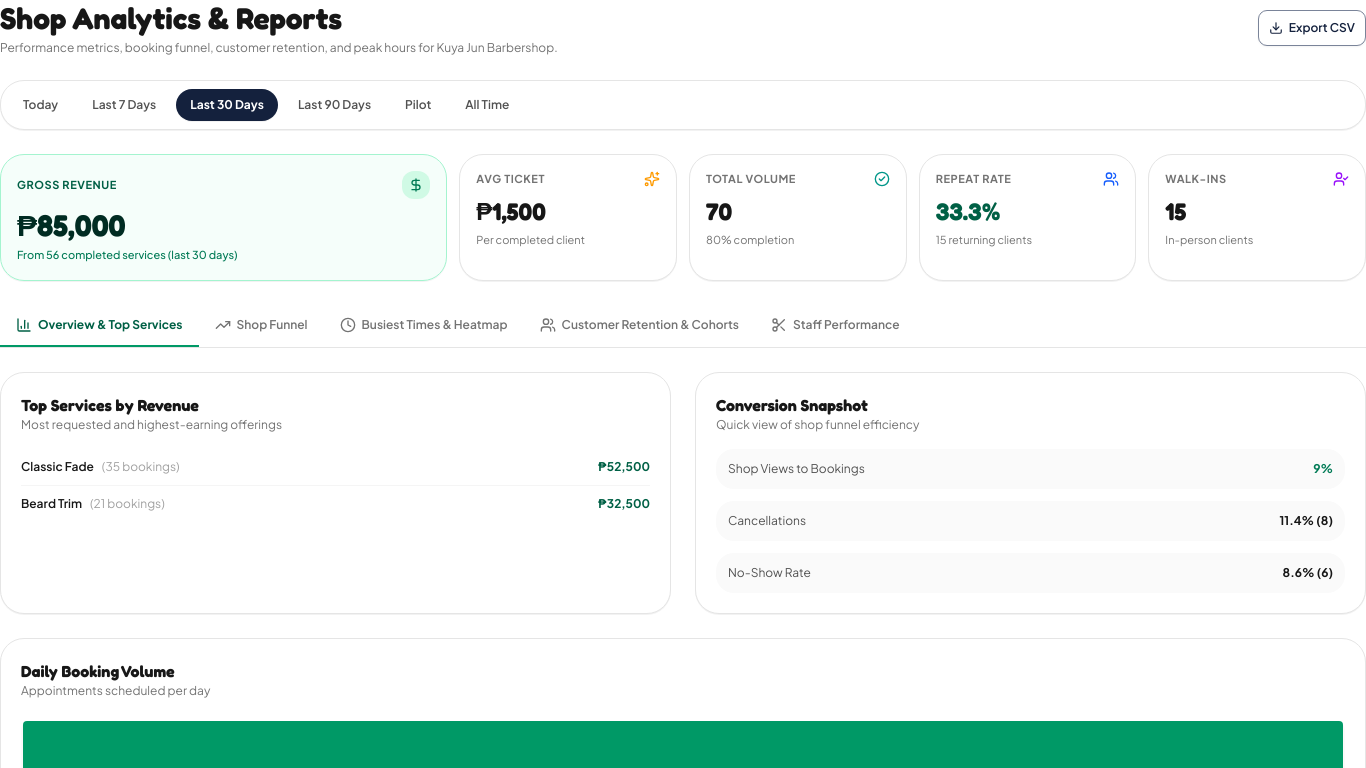
Test: Analytics UI Components › ShopAnalyticsView › switches tabs to schedule and displays busiest times
Click the button "Busiest Times & Heatmap" at [424, 326], box [324,304,524,346]
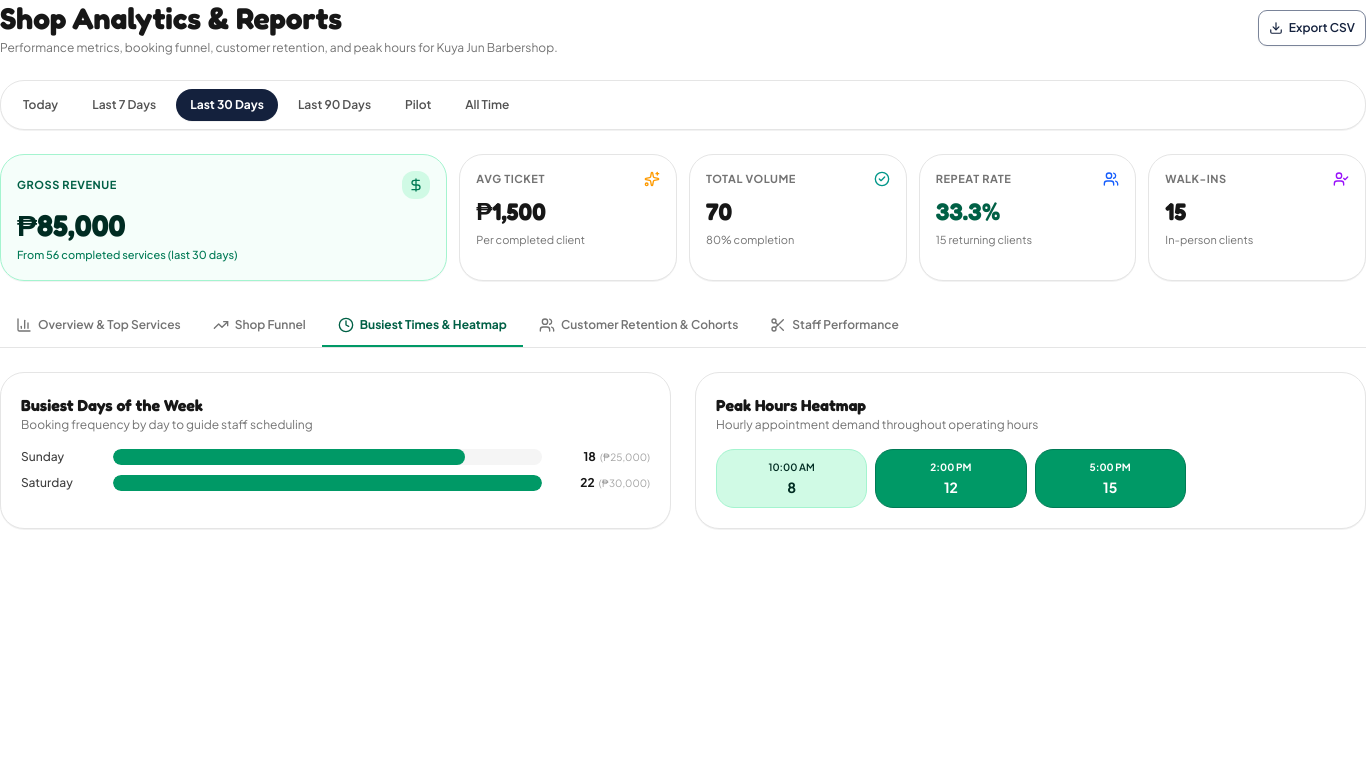
Expected: the heading "Busiest Days of the Week" is shown, [21,394,203,414]
Expected: the heading "Peak Hours Heatmap" is shown, [716,394,866,414]
